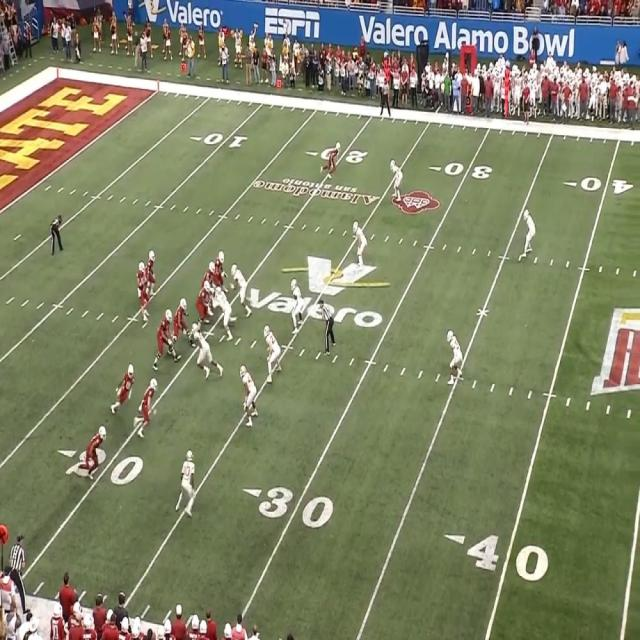center: (202, 286, 218, 322)
db: (242, 368, 258, 426), (180, 449, 194, 515), (448, 328, 463, 381), (524, 210, 536, 257), (393, 161, 404, 200)
lb: (288, 277, 304, 330), (265, 326, 280, 381), (352, 224, 366, 266)
qb: (138, 274, 150, 324)
skill: (84, 428, 107, 482), (137, 376, 155, 435), (116, 361, 133, 411), (324, 145, 338, 176), (147, 247, 157, 288)
